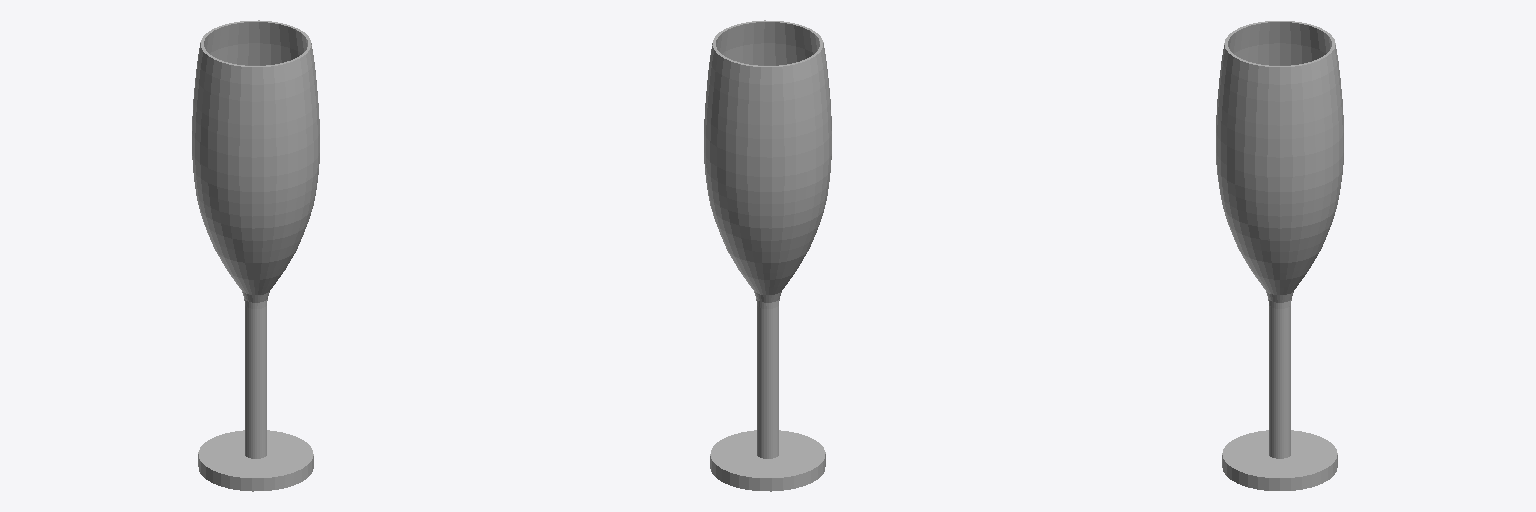
URDF robot description (root):
<robot name="root">
  <link name="link_001">
    <visual>
      <origin xyz="0 0 0" rpy="0 0 0"/>
      <geometry>
        <mesh filename="wineglass.obj" scale="1.0000E+00 1.0000E+00 1.5000E+00"/>
      </geometry>
      <material name="">
        <color rgba="7.50E-01 7.50E-01 7.50E-01 1"/>
      </material>
    </visual>
    <collision>
      <origin xyz="0 0 0" rpy="0 0 0"/>
      <geometry>
        <mesh filename="wineglass.obj" scale="1.0000E+00 1.0000E+00 1.5000E+00"/>
      </geometry>
    </collision>
    <inertial>
      <mass value="0.16"/> <!-- 质量：0.1kg -->
    </inertial>
  </link>
</robot>

--- Facts derived from the render (not from the file) ---
Views: 3 orthographic renders of the robot side by side, from view 1: azimuth 30°, elevation 25°; view 2: azimuth 150°, elevation 25°; view 3: azimuth 270°, elevation 25°.
Robot: root — 1 links, 0 joints (none); root link link_001; default pose: all joints at 0.
Links seen in each view (by area): view 1: link_001; view 2: link_001; view 3: link_001.
Boxes of the visible links, <box> form: link_001: <box>192,20,319,491</box>; link_001: <box>704,20,831,491</box>; link_001: <box>1216,21,1343,490</box>.
Size in the robot's own frame: 0.0709 by 0.0709 by 0.258 metres.
1 mesh visuals loaded from 1 distinct referenced files (1 OBJ).
